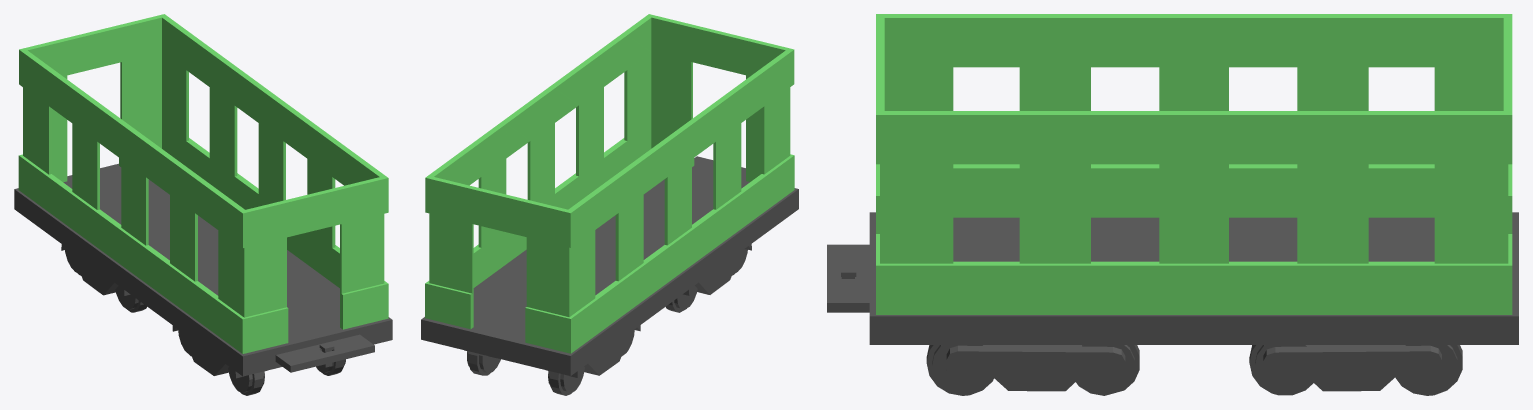
Rendered from Wagon_East.fbx.
3 renders of one model, left to right at view 1: azimuth 30°, elevation 25°; view 2: azimuth 150°, elevation 25°; view 3: azimuth 270°, elevation 25°, orthographic. The views are drawn at different scales.
Parts seen in each view (by area): view 1: Wagon_East; view 2: Wagon_East; view 3: Wagon_East.
Part boxes in pixels (bbox=[...]): Wagon_East: bbox=[14, 14, 392, 395]; Wagon_East: bbox=[421, 14, 798, 395]; Wagon_East: bbox=[827, 14, 1518, 395].
Bounding box in the file's own units: 338 × 453 × 950.
